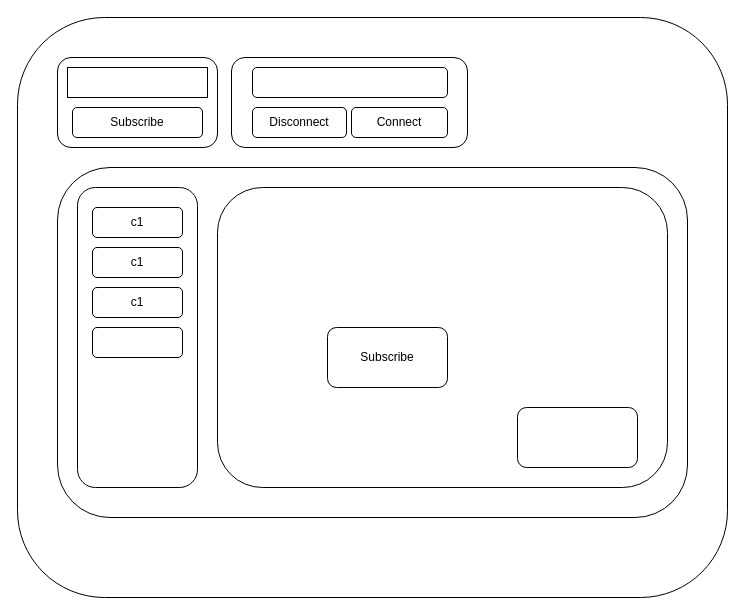
The diagram is 745 pixels wide and 615 high, and some of its shapes have lost their labels. Each missing label, with the centre of its shape:
"Channel" belongs at (x=137, y=82).
"Url" belongs at (x=350, y=82).
